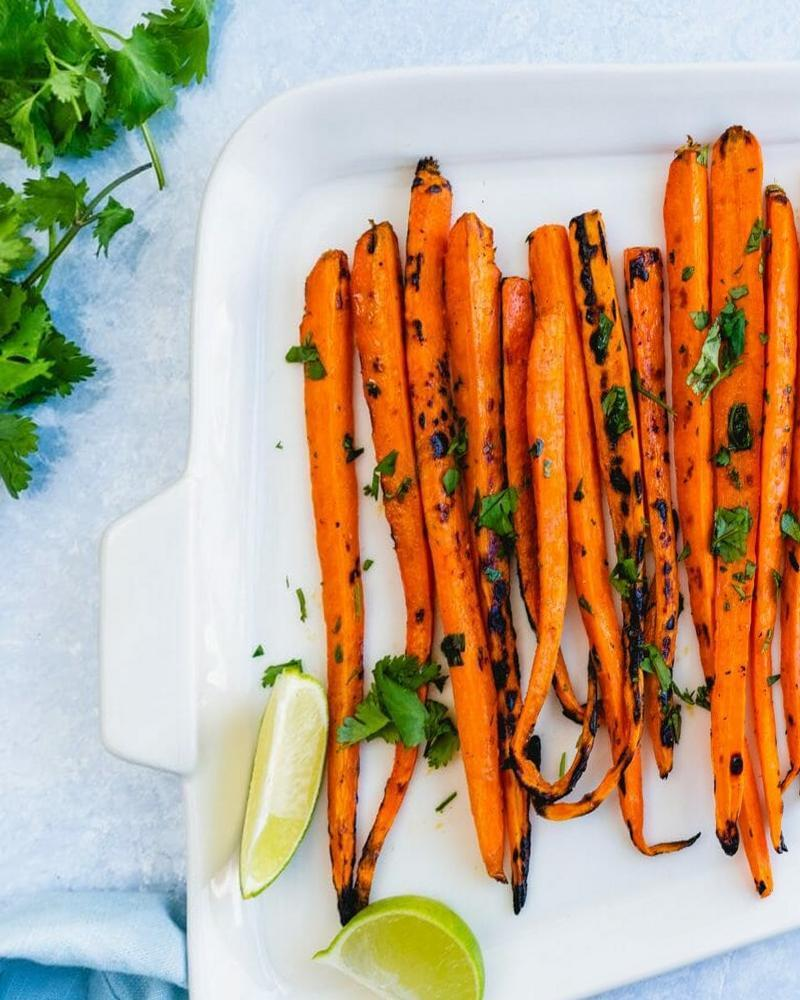carrot: (286, 153, 800, 874)
